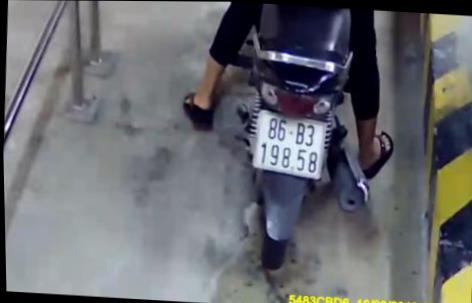LP: (248, 107, 331, 180)
